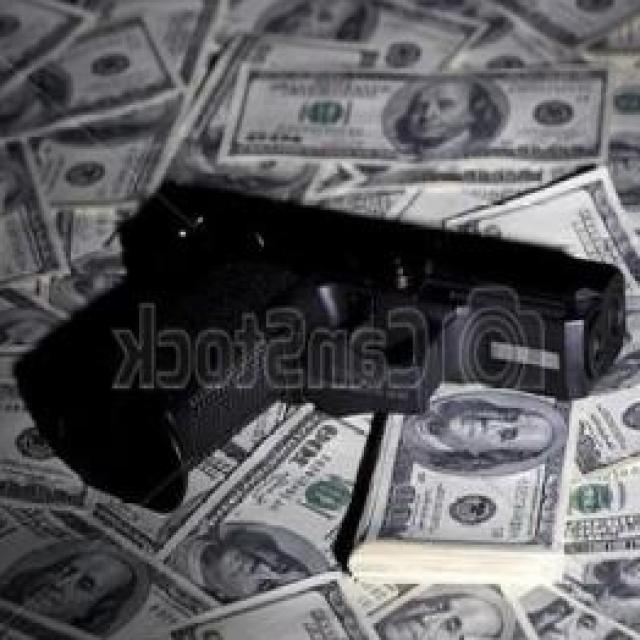pistol: (22, 178, 628, 514)
